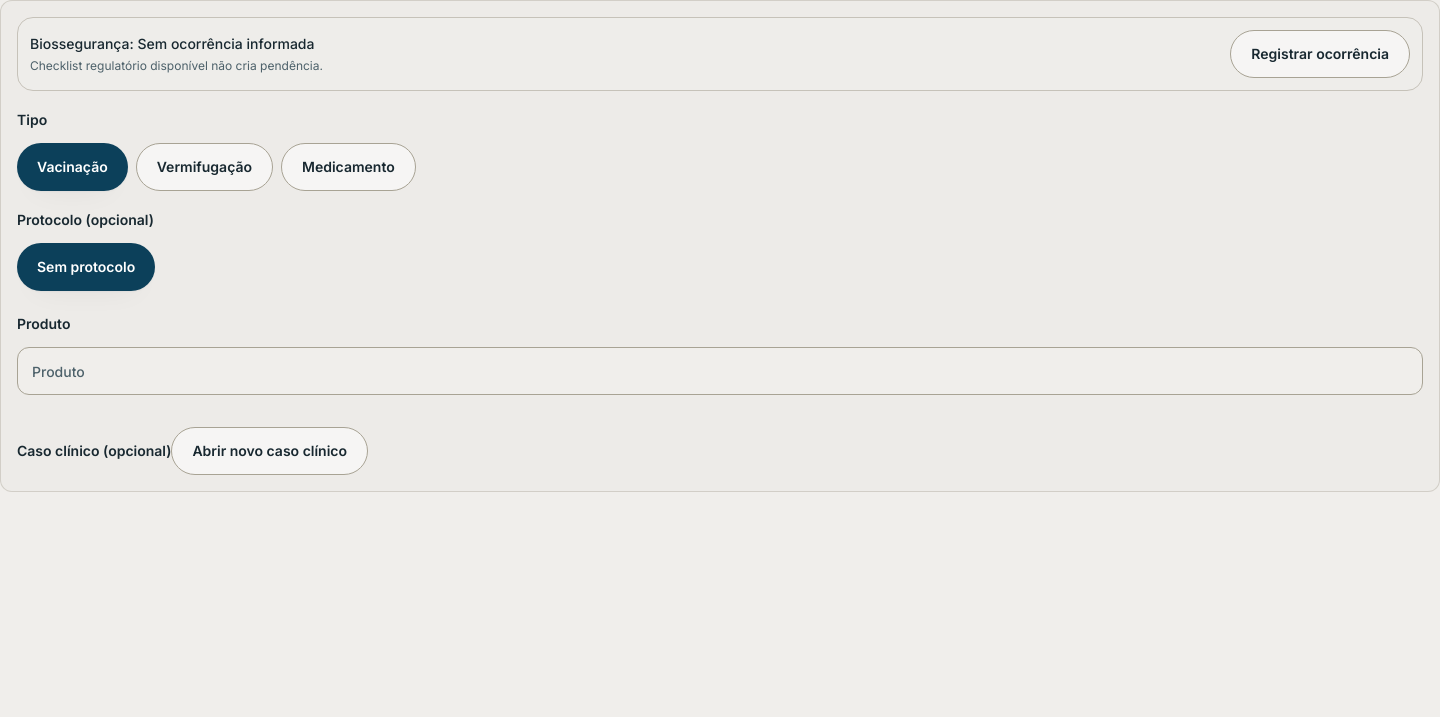
Test: RegistrarSanitarioSection › mostra estado vazio quando não há vínculo válido para o contexto
The image size is (1440, 717).
Click the button "Registrar ocorrência" at [1320, 54], box 1230,30 -> 1410,78
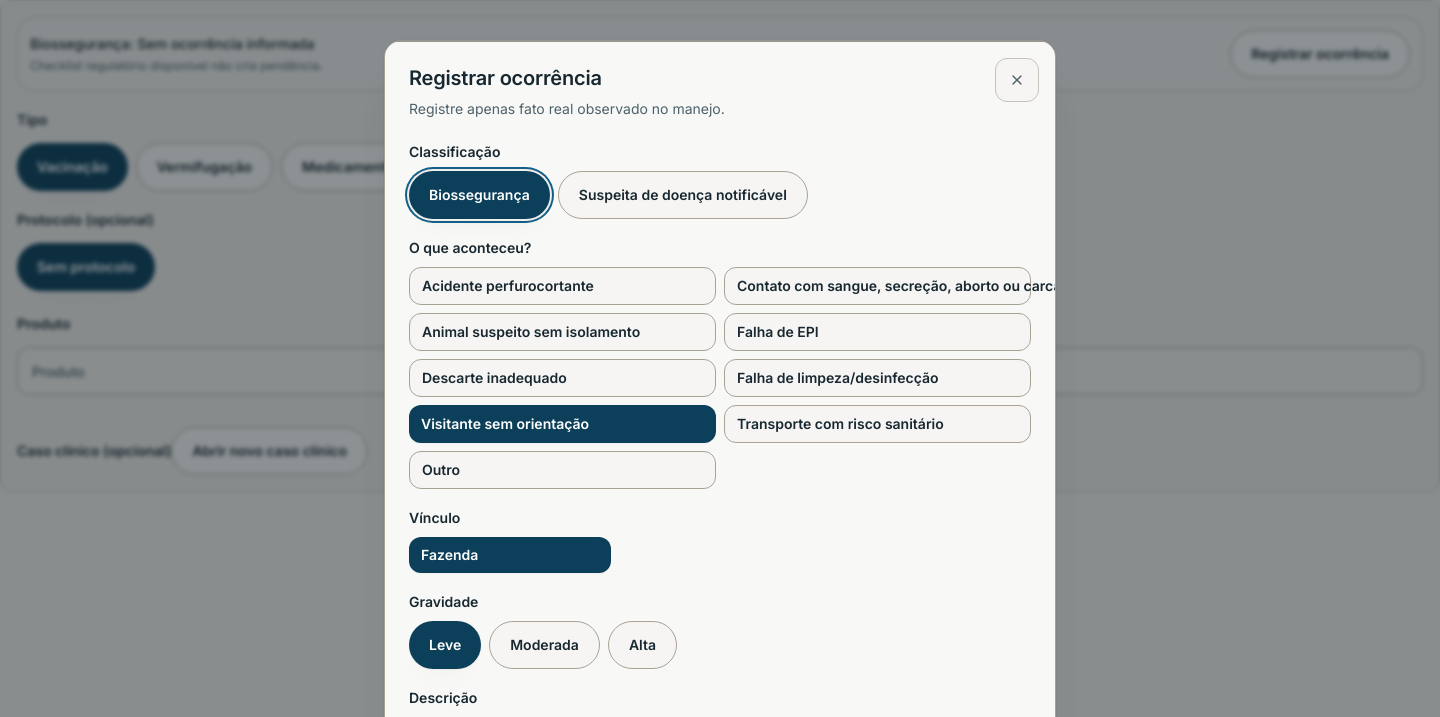
Click the button "Visitante sem orientação" at [562, 424], box 409,404 -> 716,442
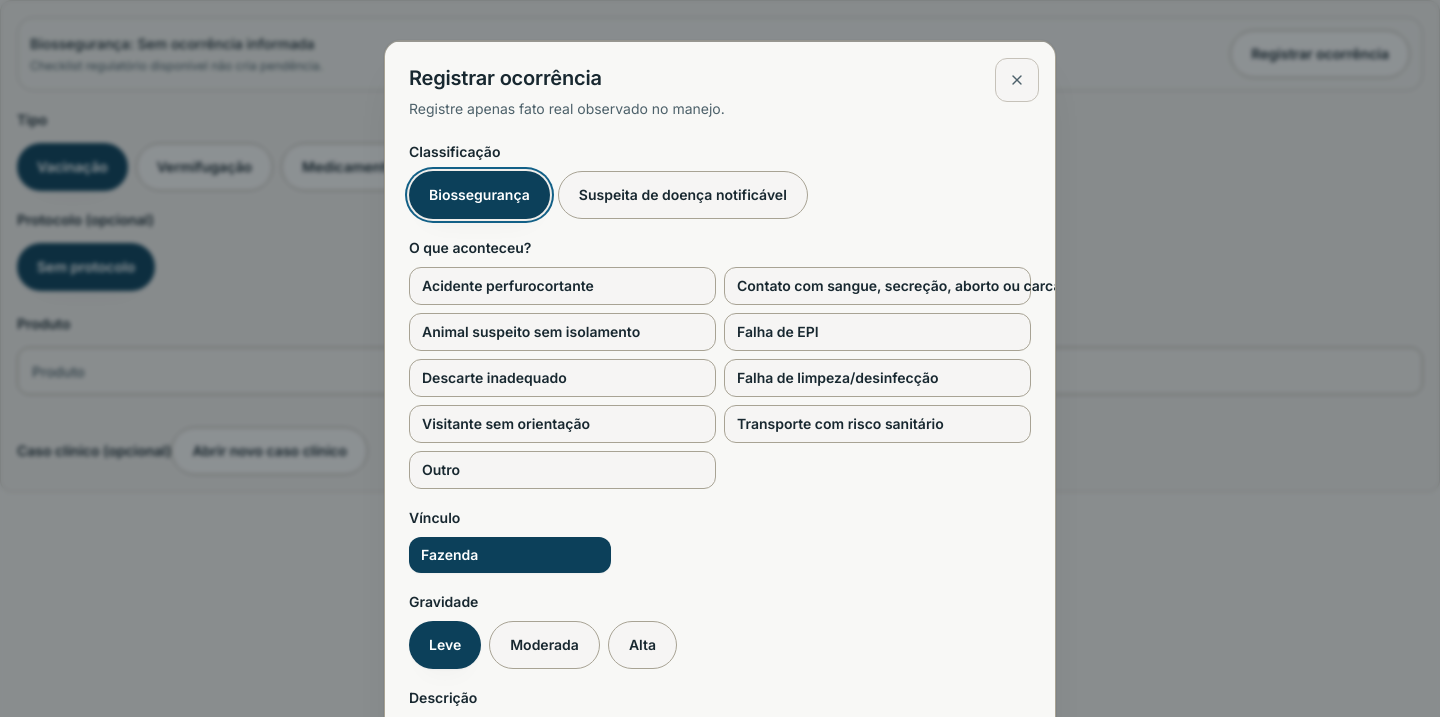
Click the button "Transporte com risco sanitário" at [878, 424], box 724,404 -> 1031,442
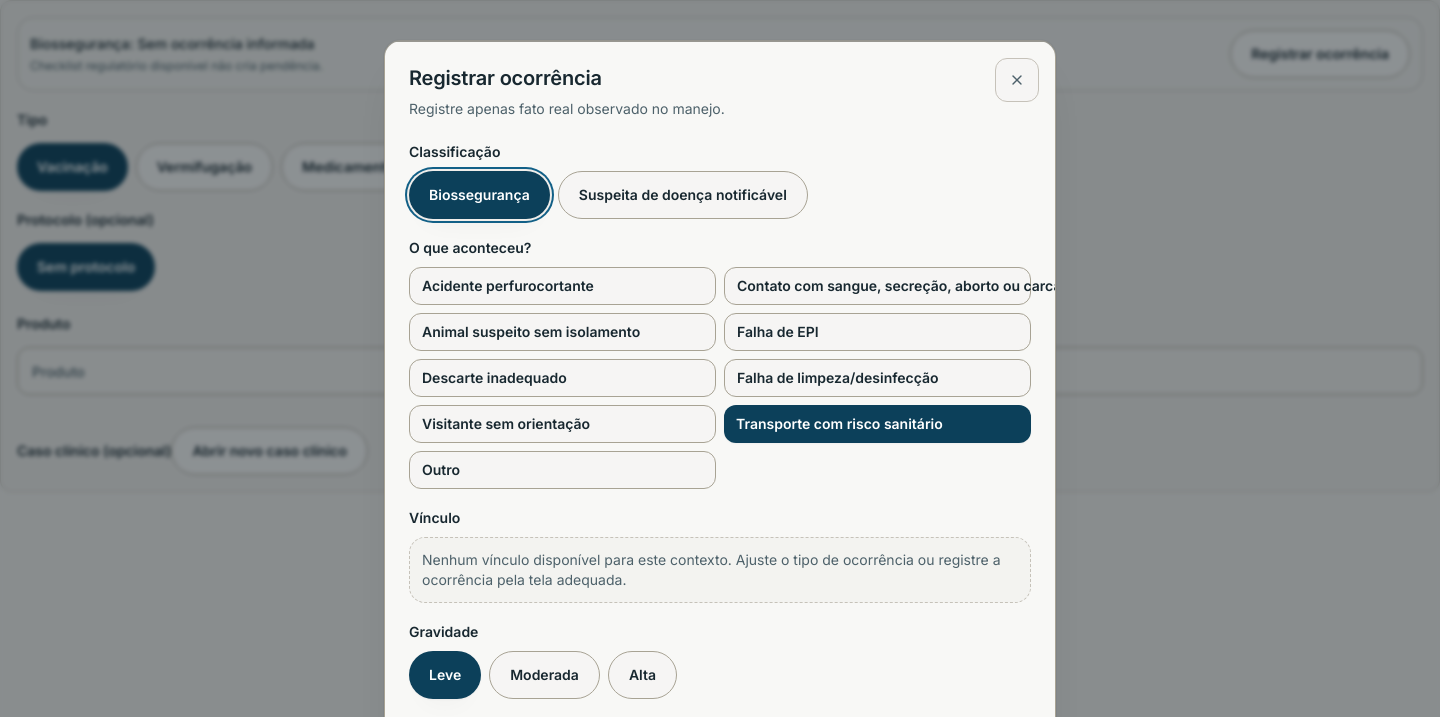
Now the text "Nenhum vínculo disponível para este contexto. Ajuste o tipo de ocorrência ou registre a ocorrência pela tela adequada." is shown, box 422,550 -> 1001,588
